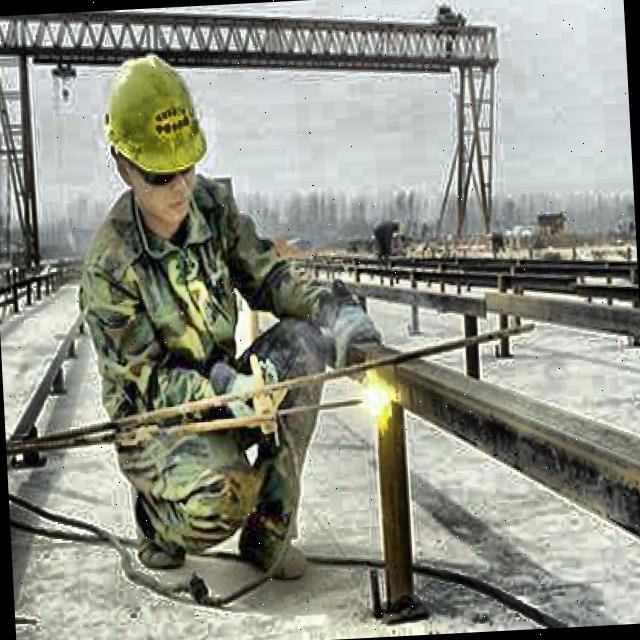helmet: (88, 37, 226, 240)
